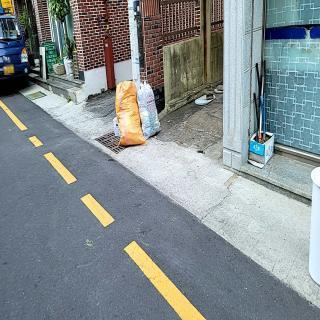Garbage: (115, 79, 145, 146), (138, 80, 164, 138)
